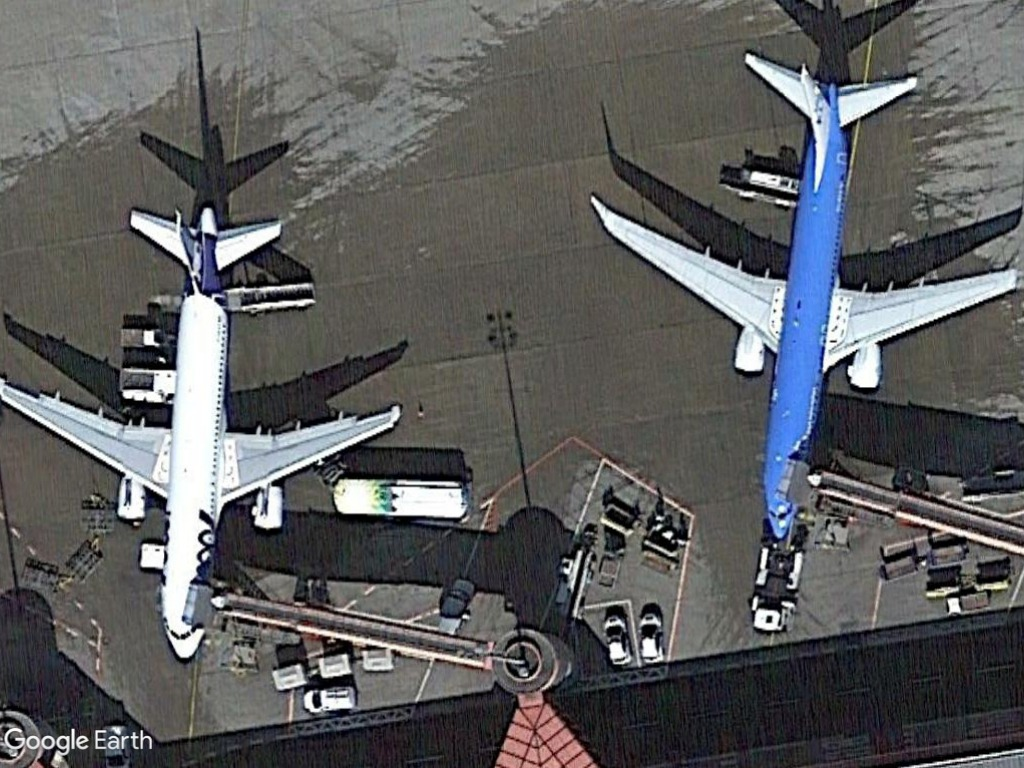airliner: (589, 48, 1024, 543), (0, 198, 406, 663)
pushbacktruck: (746, 539, 808, 638)
stairtruck: (223, 281, 323, 318)
van: (296, 682, 362, 718)
